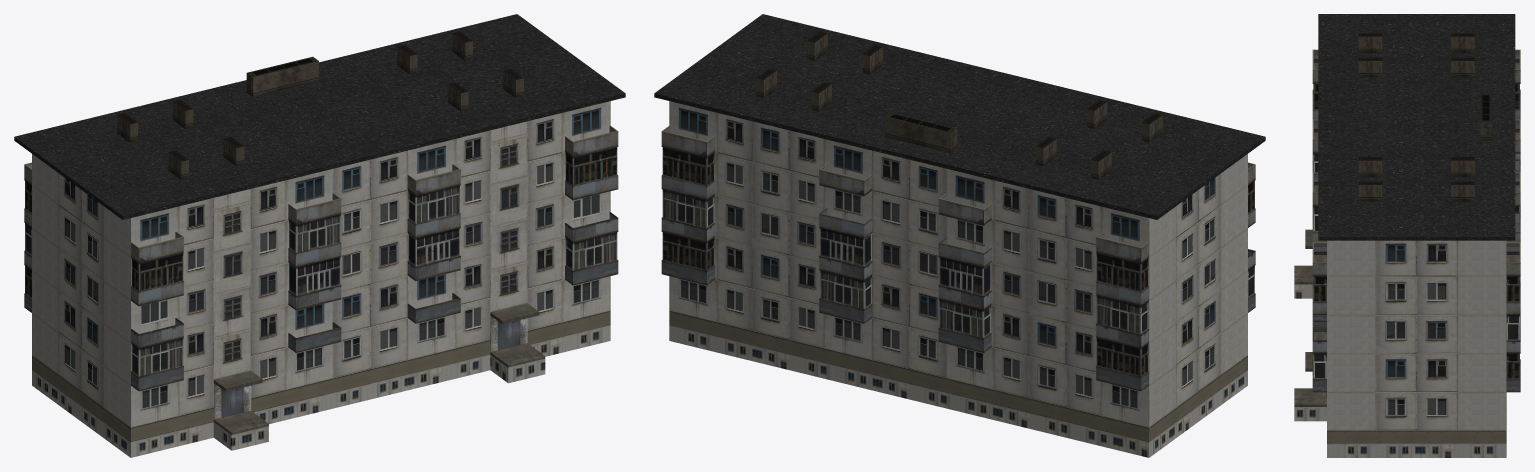
3 views of the same model, side by side, from view 1: azimuth 30°, elevation 25°; view 2: azimuth 150°, elevation 25°; view 3: azimuth 270°, elevation 25° (orthographic). The views are drawn at different scales.
Visible parts, largest first — view 1: 531899368.L1 1-464 Soviet apartment; view 2: 531899368.L1 1-464 Soviet apartment; view 3: 531899368.L1 1-464 Soviet apartment.
Boxes of the visible parts, x1=… form: 531899368.L1 1-464 Soviet apartment: x1=14, y1=14, x2=625, y2=457; 531899368.L1 1-464 Soviet apartment: x1=654, y1=14, x2=1265, y2=457; 531899368.L1 1-464 Soviet apartment: x1=1294, y1=14, x2=1520, y2=457.
Size of the model in its own units: 33.46 by 17.06 by 14.36.
1 material, 1 textured.
